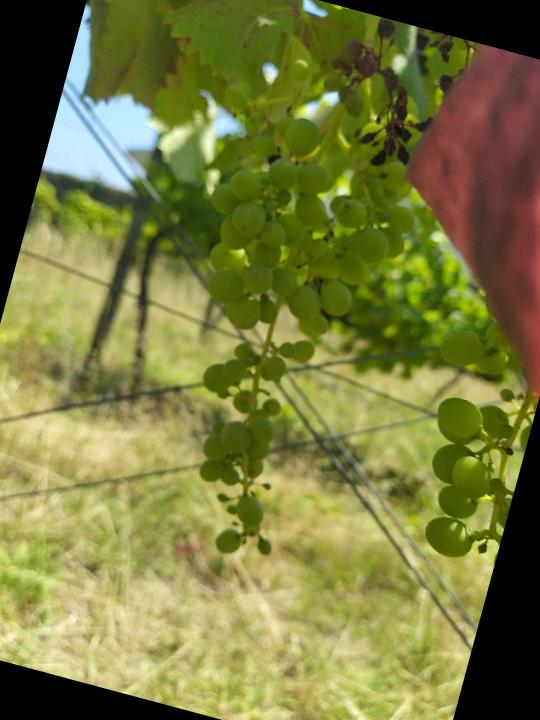grape: (102, 40, 457, 589), (309, 10, 480, 188)
